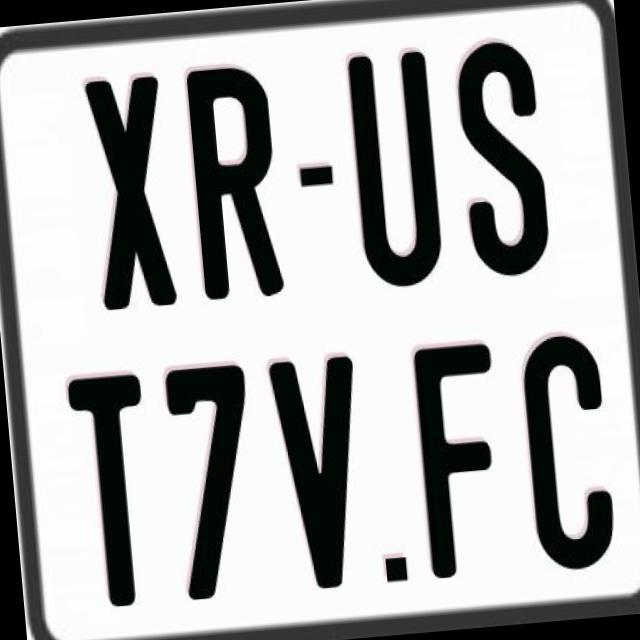7: (160, 362, 260, 599)
C: (517, 330, 615, 570)
F: (410, 338, 510, 576)
R: (182, 60, 282, 306)
S: (450, 34, 550, 280)
T: (66, 368, 165, 610)
U: (344, 47, 448, 296)
V: (266, 350, 378, 596)
X: (80, 71, 176, 315)
